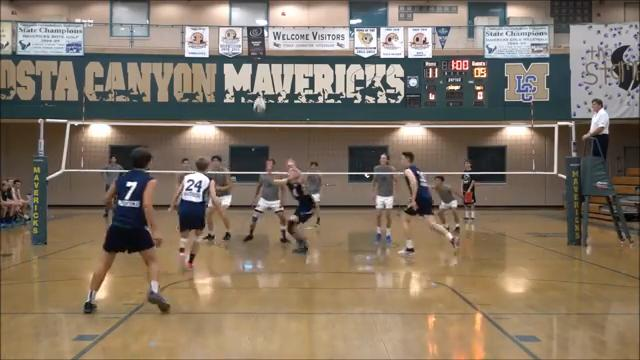alzata: (266, 155, 319, 258)
